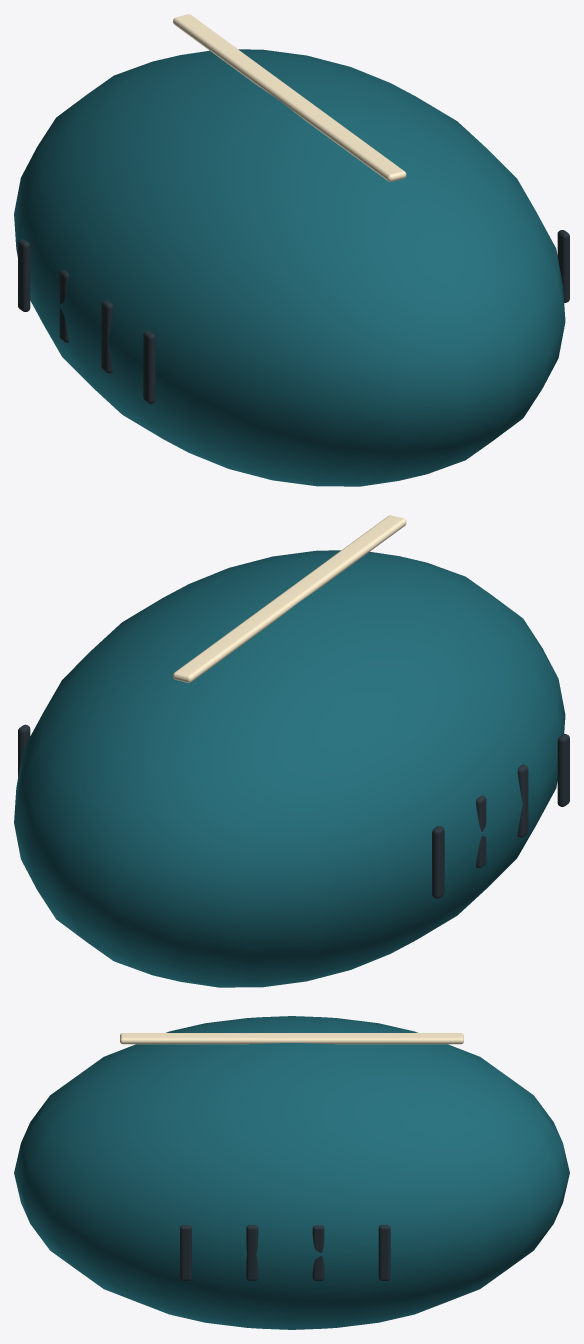
File: tatu_hood_round.glb
3 renders of one model, top to bottom at view 1: azimuth 30°, elevation 25°; view 2: azimuth 150°, elevation 25°; view 3: azimuth 270°, elevation 25°, orthographic. The views are drawn at different scales.
Parts seen in each view (by area): view 1: Hood; view 2: Hood; view 3: Hood.
Boxes of the visible parts, box(x1,y1,x2,y2) form: Hood: box(14, 14, 569, 486); Hood: box(14, 515, 569, 987); Hood: box(14, 1016, 569, 1329).
Size of the model in its own units: 1.48 by 1.13 by 2.1.
